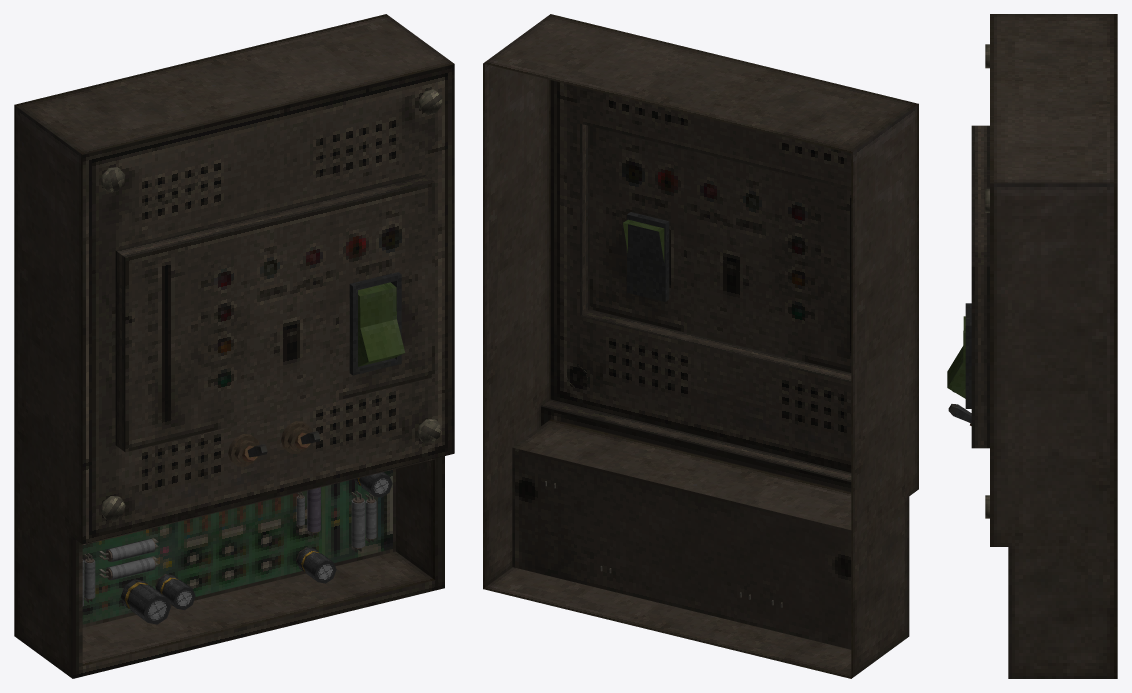
File: panel_etx_1_2.glb
The picture shows the model from 3 angles, left to right: view 1: azimuth 30°, elevation 25°; view 2: azimuth 150°, elevation 25°; view 3: azimuth 270°, elevation 25°; orthographic projection. The views are drawn at different scales.
Parts seen in each view (by area): view 1: panel_etx_1_2, panel_etx_1_2_button_child; view 2: panel_etx_1_2; view 3: panel_etx_1_2, panel_etx_1_2_button_child, switch_etx_1_child_1.011.
Part boxes in pixels (bbox=[...]): panel_etx_1_2: bbox=[14, 14, 454, 678]; panel_etx_1_2_button_child: bbox=[358, 282, 405, 366]; panel_etx_1_2: bbox=[483, 14, 918, 678]; panel_etx_1_2: bbox=[965, 14, 1117, 678]; panel_etx_1_2_button_child: bbox=[947, 316, 965, 398]; switch_etx_1_child_1.011: bbox=[948, 404, 971, 425].
Size of the model in its own units: 0.44 by 0.6 by 0.1866.
2 materials, 2 textured.
